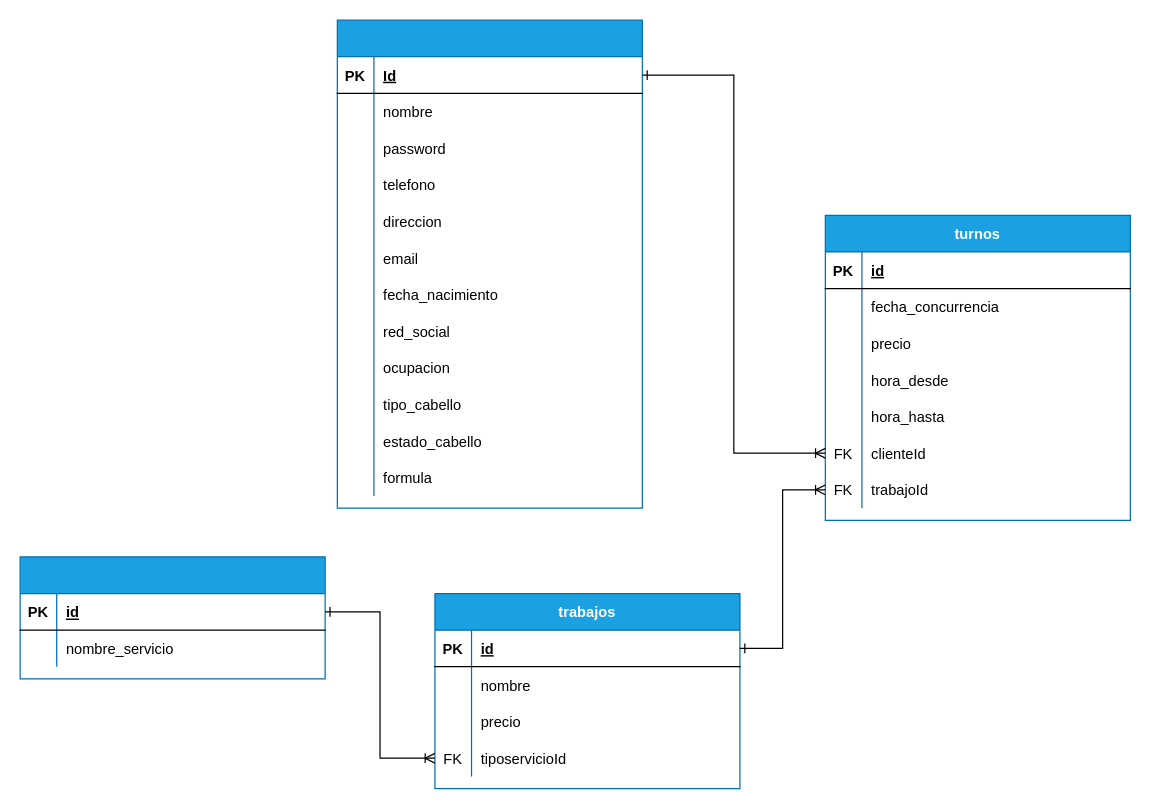
This 1150x809 diagram has some shape labels left out. Each missing label, with the box of its shape:
clientes: (336, 19, 642, 508)
tiposervicios: (19, 556, 325, 679)
